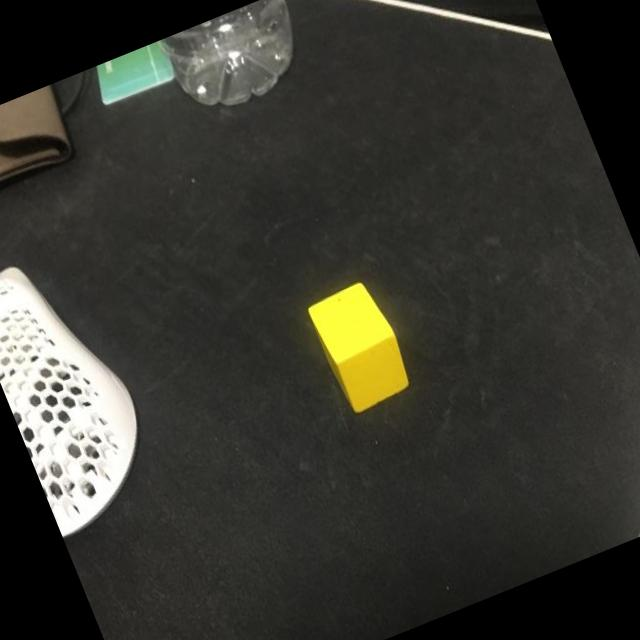yellow: (303, 277, 418, 417)
